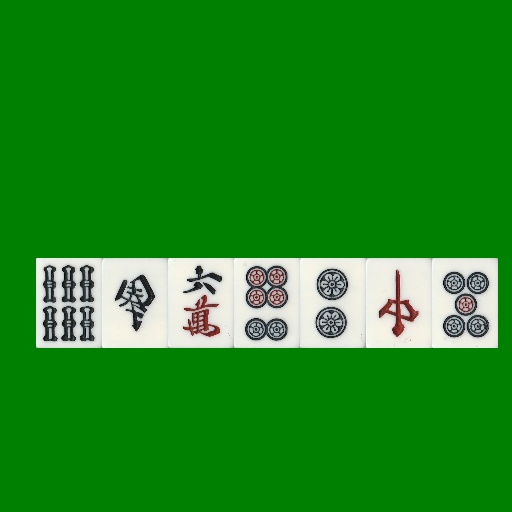2p: (300, 258, 366, 348)
5p: (432, 258, 498, 348)
6m: (168, 258, 234, 348)
6p: (234, 258, 300, 348)
6s: (36, 258, 102, 348)
south: (102, 258, 168, 348)
tyun: (366, 258, 432, 348)
